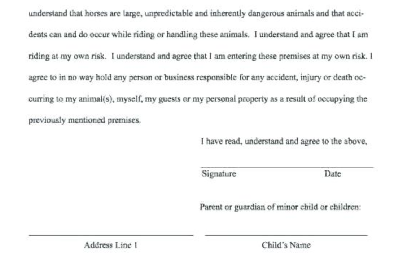textline: (197, 150, 376, 170), (27, 218, 196, 239), (201, 218, 372, 238)
